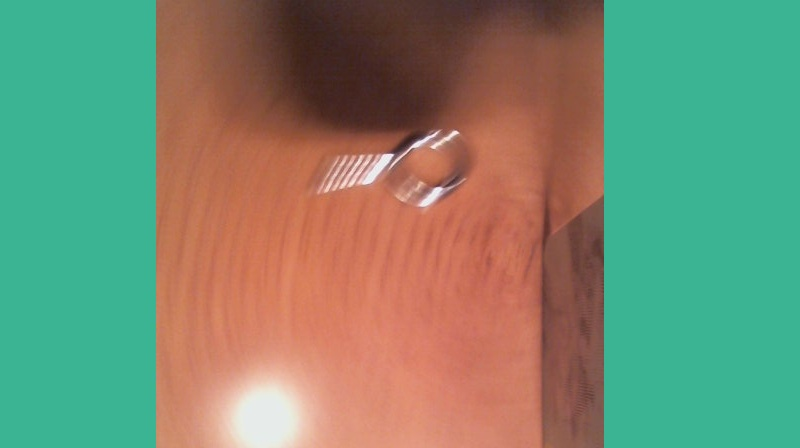O001: (309, 113, 481, 215)
